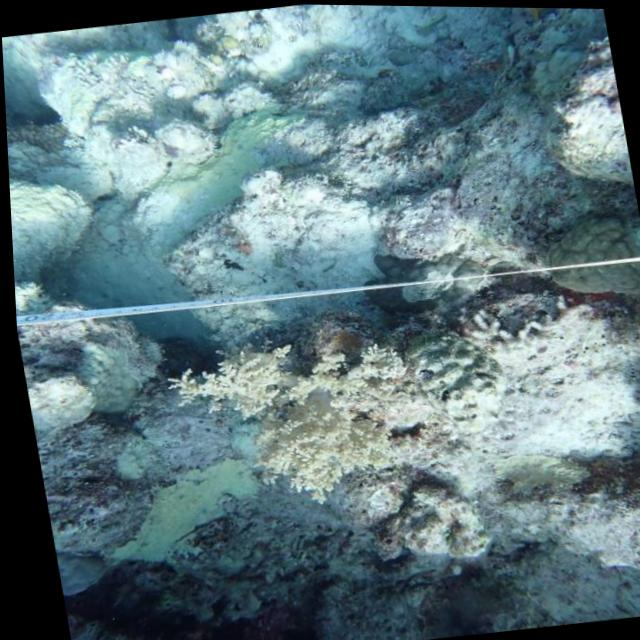Bleached Coral: (155, 306, 460, 511)
